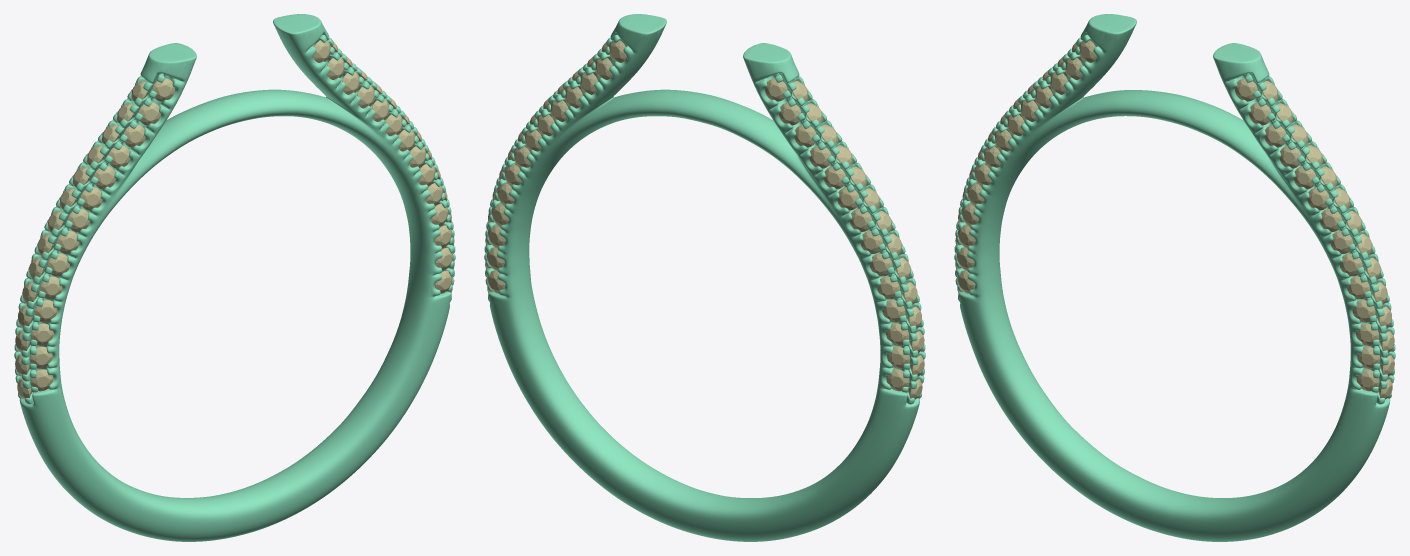
The picture shows the model from 3 angles, left to right: view 1: azimuth 30°, elevation 25°; view 2: azimuth 150°, elevation 25°; view 3: azimuth 330°, elevation 25°; orthographic projection.
Visible parts, largest first — view 1: Metal02; view 2: Metal02; view 3: Metal02.
Boxes of the visible parts, x1,y1,x2,y2 form: Metal02: (14,14,455,541); Metal02: (484,14,925,541); Metal02: (954,14,1395,541).
Bounding box in the file's own units: 20.86 × 22.82 × 1.86.
